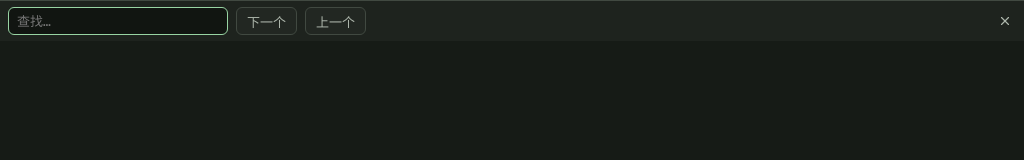
useWebContentsFind 状态机 › 旧请求迟到帧丢弃（requestId 不符）
This screenshot has width=1024, height=160.
Type "a" into the field at (118, 21), box [8,7,228,35]
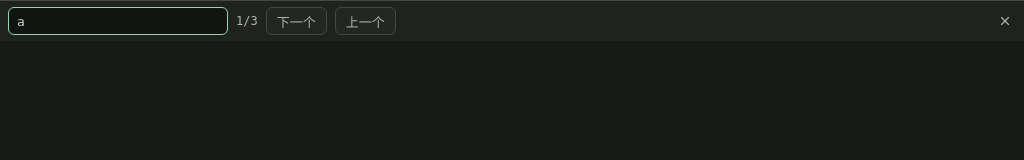
Expected: the text "1/3" is shown, [236,14,258,28]
